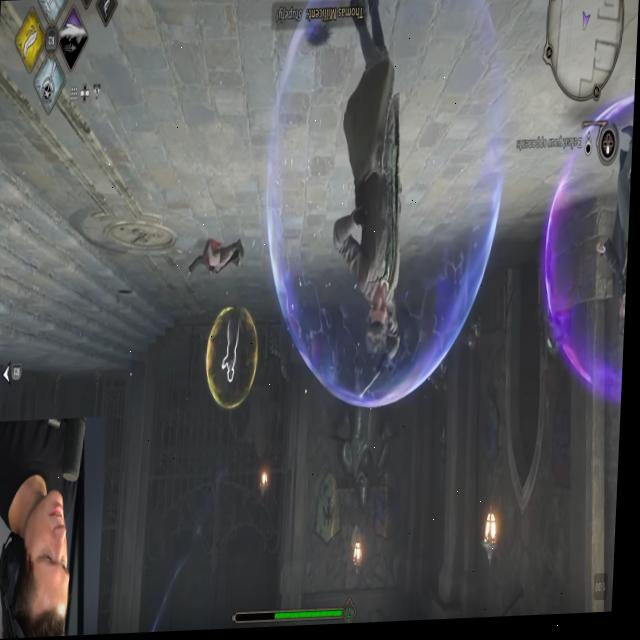compass: (585, 135, 594, 161)
